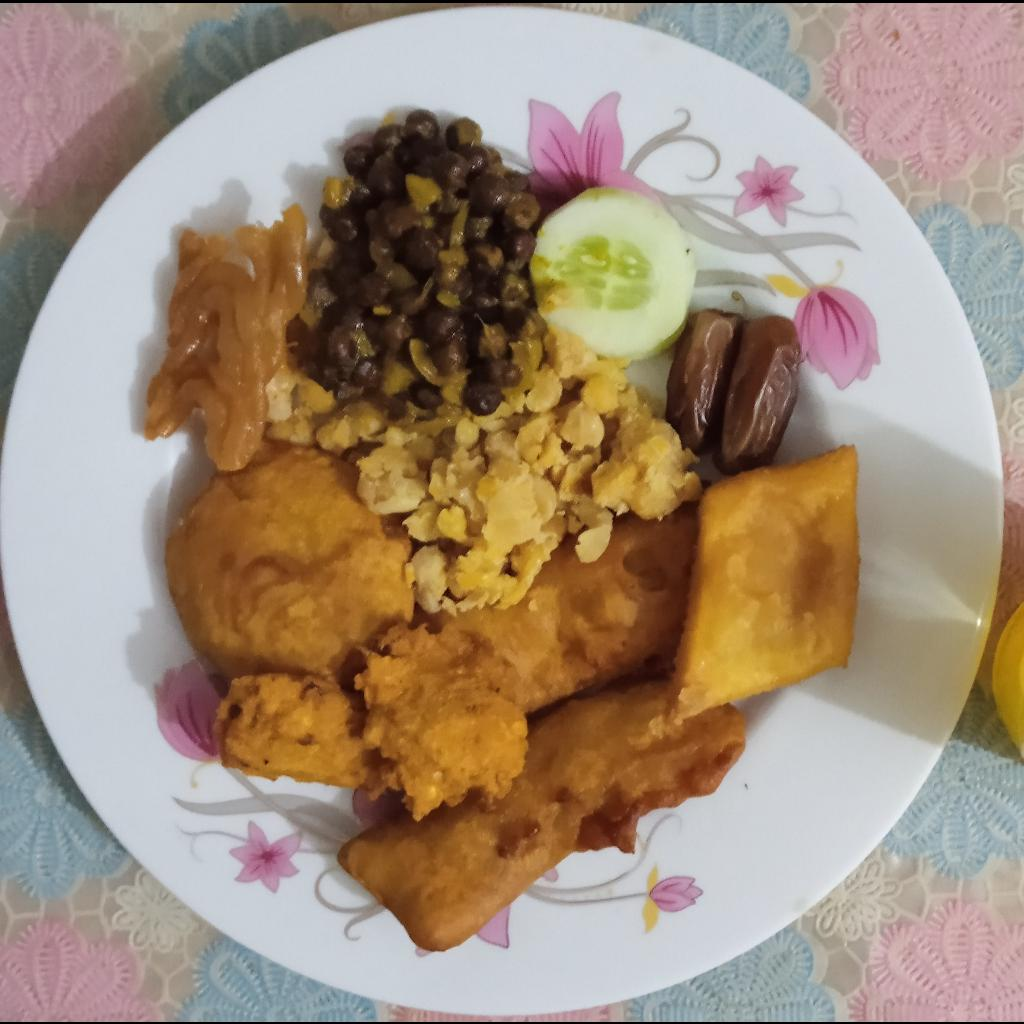beguni: (332, 681, 747, 953), (416, 503, 695, 713)
burinda: (267, 307, 703, 614)
chola: (290, 106, 540, 416)
chop-alu: (162, 441, 414, 681)
cucumber: (531, 184, 696, 360)
dates: (664, 305, 802, 472)
jilapi: (145, 204, 306, 471)
piyaju: (215, 622, 526, 811)
sweets: (669, 445, 861, 727)
